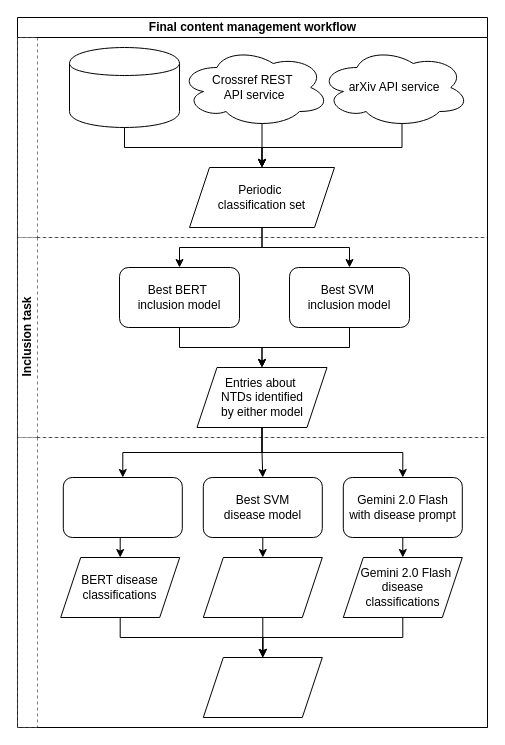
Some shapes in this 505 by 745 pixel diagram are drawn without their labels. Each missing label, with the box of its shape:
Best BERT disease model: (62, 476, 182, 538)
Data loading: (16, 36, 488, 238)
Disease task: (16, 436, 488, 728)
Final Excel Report: (202, 656, 322, 718)
PubMed daily updates: (68, 46, 180, 128)
SVM disease classifications: (202, 556, 322, 618)
